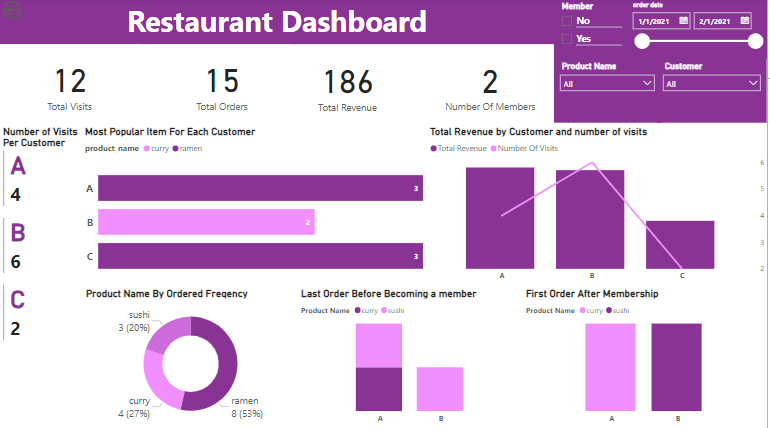

The dashboard page shown, as its layout file describes it:
{"tool":"powerbi","page":{"name":"Page 1","canvas":[1280,720],"ordinal":0},"visuals":[{"type":"textbox","box":[0,0,924.5,76.8],"z":0},{"type":"card","fields":{"Values":["Sum(NumberOfVisits.number_of_visits)"]},"box":[0,76.8,232,130.2],"z":1000},{"type":"card","fields":{"Values":["CountNonNull(Table Recreated.order_date)"]},"box":[255.3,76.8,230.3,130.2],"z":2000},{"type":"card","fields":{"Values":["Sum(Total Spending By Customer.total_price)"]},"box":[462.3,78.4,235.3,130.2],"z":3000},{"type":"slicer","fields":{"Values":["Table Recreated.Member"]},"box":[923.9,0,119.4,100.9],"z":4000,"group":"g1"},{"type":"slicer","fields":{"Values":["Table Recreated.product_name"]},"box":[924,100.9,178.3,107.6],"z":5000,"group":"g1"},{"type":"slicer","fields":{"Values":["Table Recreated.order_date"]},"box":[1041.8,0,238.8,100.9],"z":6000,"group":"g1"},{"type":"barChart","title":"Most Popular Item For Each Customer","fields":{"Category":["Item Popularity by customer.customer_id"],"Series":["Item Popularity by customer.product_name"],"Y":["Sum(Item Popularity by customer.purchase_count)"]},"box":[137.6,211.4,573.7,270.1],"z":7000},{"type":"multiRowCard","title":"Number of Visits Per Customer","fields":{"Values":["NumberOfVisits.customer_id","Sum(NumberOfVisits.number_of_visits)"]},"box":[0,211.7,137.7,507.3],"z":8000},{"type":"actionButton","box":[0,0,100,40],"z":9000},{"type":"lineStackedColumnComboChart","title":"Total Revenue by Customer and number of visits","fields":{"Category":["Total Spending By Customer.customer_id"],"Y":["Sum(Total Spending By Customer.total_price)"],"Y2":["Count(Table Recreated.order_date)"]},"box":[712.2,211.7,567.8,270.4],"z":10000},{"type":"donutChart","title":"Product Name By Ordered Freqency","fields":{"Category":["Table Recreated.product_name"],"Y":["CountNonNull(Table Recreated.order_date)"]},"box":[137.7,482.1,359.5,236.9],"z":11000},{"type":"columnChart","title":"Last Order Before Becoming a member","fields":{"Category":["Last Order Before Memebership.customer_id"],"Y":["CountNonNull(Last Order Before Memebership.product_name)"],"Series":["Last Order Before Memebership.product_name"]},"box":[497.2,482.1,376.3,236.9],"z":12000},{"type":"columnChart","title":"First Order After Membership","fields":{"Category":["First order after membership.customer_id"],"Y":["CountNonNull(First order after membership.product_name)"],"Series":["First order after membership.product_name"]},"box":[873.5,482.1,406.5,236.9],"z":13000},{"type":"card","fields":{"Values":["Count(First order after membership.customer_id)"]},"box":[710.9,78.4,213.6,128.5],"z":14000},{"type":"slicer","fields":{"Values":["Table Recreated.customer_id"]},"box":[1095.5,100.9,183.3,107.6],"z":15000,"group":"g1"},{"type":"group","id":"g1","title":"Group 1","box":[923.9,0,356.7,208.6],"z":15001}]}

Visuals, with their boxes in screenshot pixels (x1, y1, x2, y2), scaled from the page's 1280x720 canvas onto the 770x428 screenshot:
textbox: bbox(0, 0, 556, 46)
card - Sum(NumberOfVisits.number_of_visits): bbox(0, 46, 140, 123)
card - CountNonNull(Table Recreated.order_date): bbox(154, 46, 292, 123)
card - Sum(Total Spending By Customer.total_price): bbox(278, 47, 420, 124)
slicer - Table Recreated.Member: bbox(556, 0, 628, 60)
slicer - Table Recreated.product_name: bbox(556, 60, 663, 124)
slicer - Table Recreated.order_date: bbox(627, 0, 769, 60)
"Most Popular Item For Each Customer" barChart: bbox(83, 126, 428, 286)
"Number of Visits Per Customer" multiRowCard: bbox(0, 126, 83, 427)
actionButton: bbox(0, 0, 60, 24)
"Total Revenue by Customer and number of visits" lineStackedColumnComboChart: bbox(428, 126, 769, 287)
"Product Name By Ordered Freqency" donutChart: bbox(83, 287, 299, 427)
"Last Order Before Becoming a member" columnChart: bbox(299, 287, 525, 427)
"First Order After Membership" columnChart: bbox(525, 287, 769, 427)
card - Count(First order after membership.customer_id): bbox(428, 47, 556, 123)
slicer - Table Recreated.customer_id: bbox(659, 60, 769, 124)
"Group 1" group: bbox(556, 0, 769, 124)
